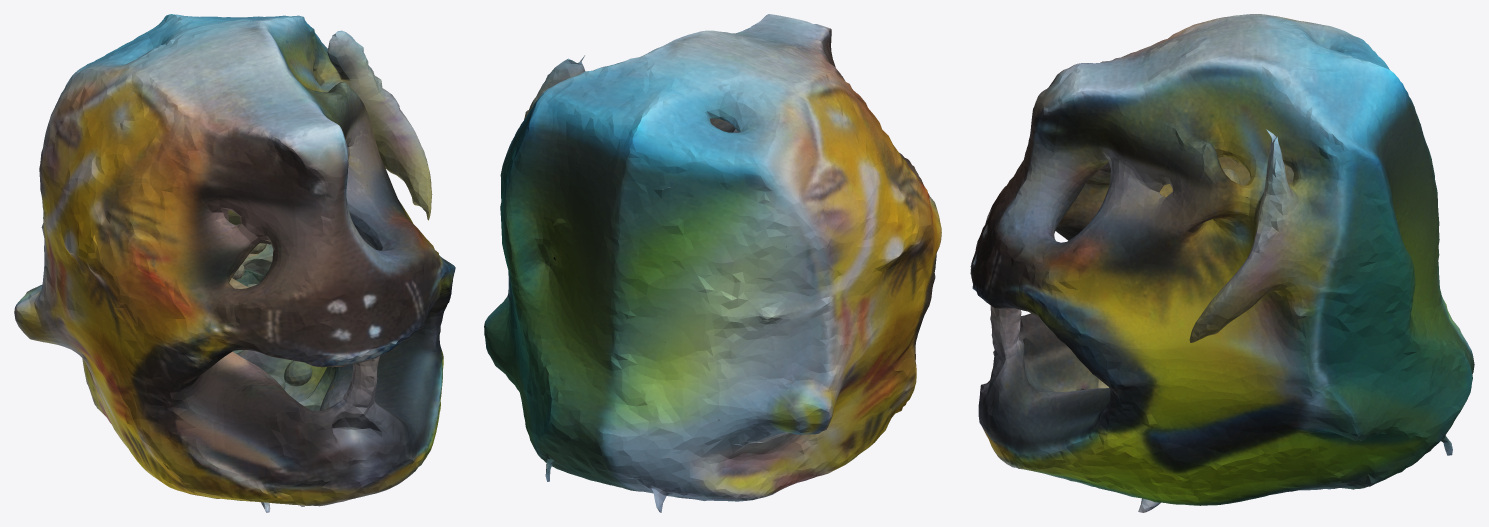
File: elephant.glb
3 renders of one model, left to right at view 1: azimuth 30°, elevation 25°; view 2: azimuth 150°, elevation 25°; view 3: azimuth 270°, elevation 25°, orthographic. The views are drawn at different scales.
Size of the model in its own units: 0.8514 by 1 by 0.9949.
1 material, 1 textured.
